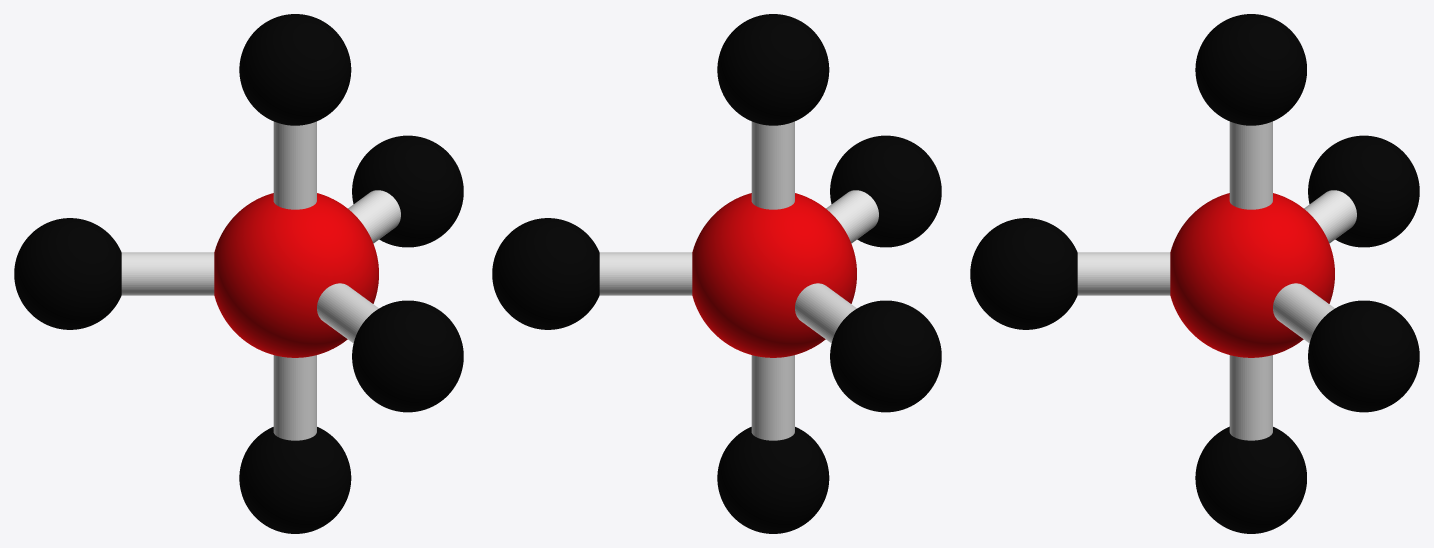
File: trigonalbipyramidal.glb
3 renders of one model, left to right at view 1: azimuth 30°, elevation 25°; view 2: azimuth 150°, elevation 25°; view 3: azimuth 270°, elevation 25°, orthographic.
Visible parts, largest first — view 1: Sphere, Sphere.005, Sphere.002, Sphere.004, Sphere.003, Sphere.001; view 2: Sphere, Sphere.001, Sphere.002, Sphere.004, Sphere.005, Sphere.003; view 3: Sphere, Sphere.003, Sphere.002, Sphere.004, Sphere.001, Sphere.005.
Part boxes in pixels (<box>): Sphere: <box>214,193,378,357</box>; Sphere.005: <box>14,218,214,329</box>; Sphere.002: <box>239,14,351,209</box>; Sphere.004: <box>239,355,351,533</box>; Sphere.003: <box>317,283,463,412</box>; Sphere.001: <box>348,135,463,247</box>; Sphere: <box>692,193,856,357</box>; Sphere.001: <box>492,218,692,329</box>; Sphere.002: <box>717,14,829,209</box>; Sphere.004: <box>717,355,829,533</box>; Sphere.005: <box>795,283,941,412</box>; Sphere.003: <box>826,135,941,247</box>; Sphere: <box>1170,193,1334,357</box>; Sphere.003: <box>970,218,1170,329</box>; Sphere.002: <box>1195,14,1306,209</box>; Sphere.004: <box>1195,355,1306,533</box>; Sphere.001: <box>1273,283,1419,412</box>; Sphere.005: <box>1304,135,1419,247</box>.
Bounding box in the file's own units: 8.91 × 9.98 × 7.98.
